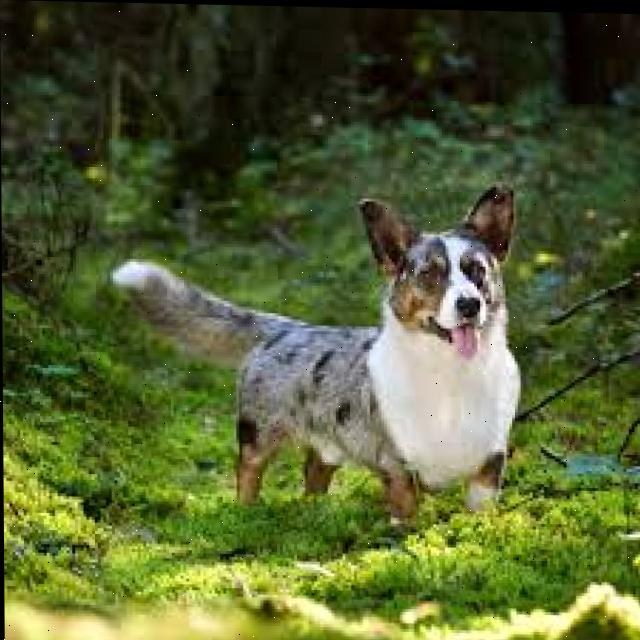CORGI: (106, 161, 555, 521)
